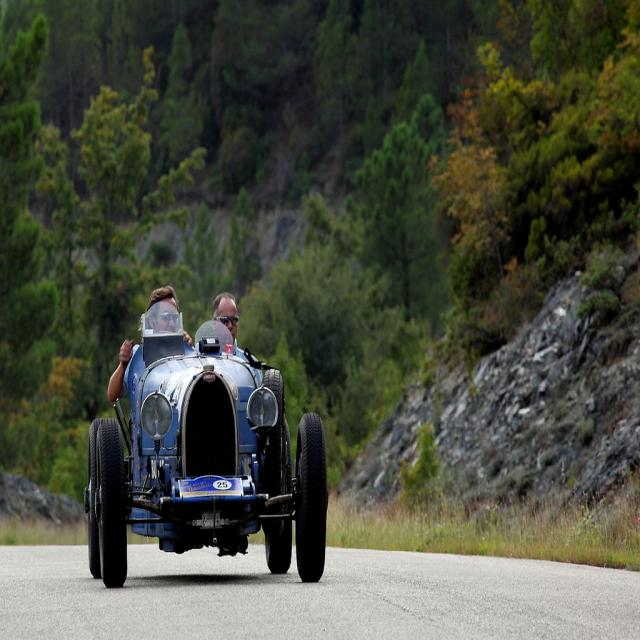car: (80, 293, 318, 581)
